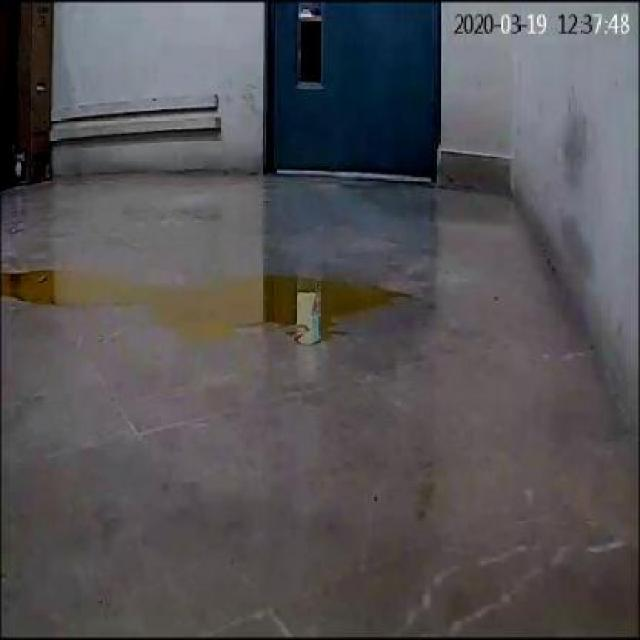spill: (1, 266, 417, 345)
